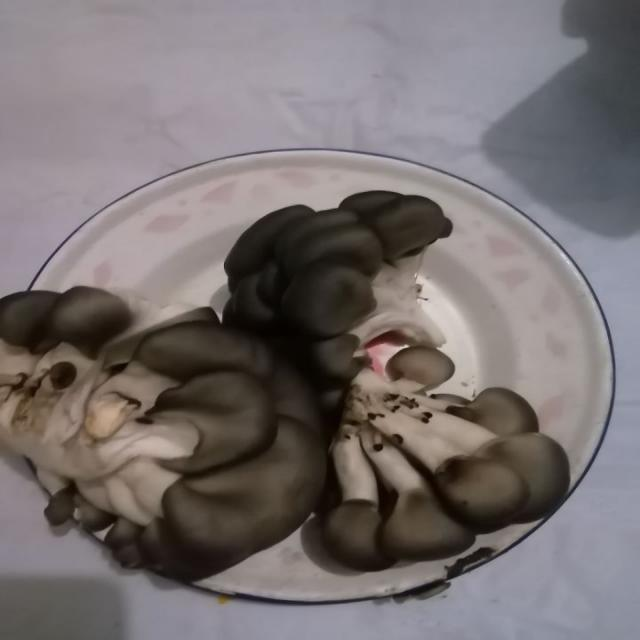Pleurotus ostreatus: (3, 285, 325, 583), (311, 343, 570, 574), (226, 190, 453, 348)
